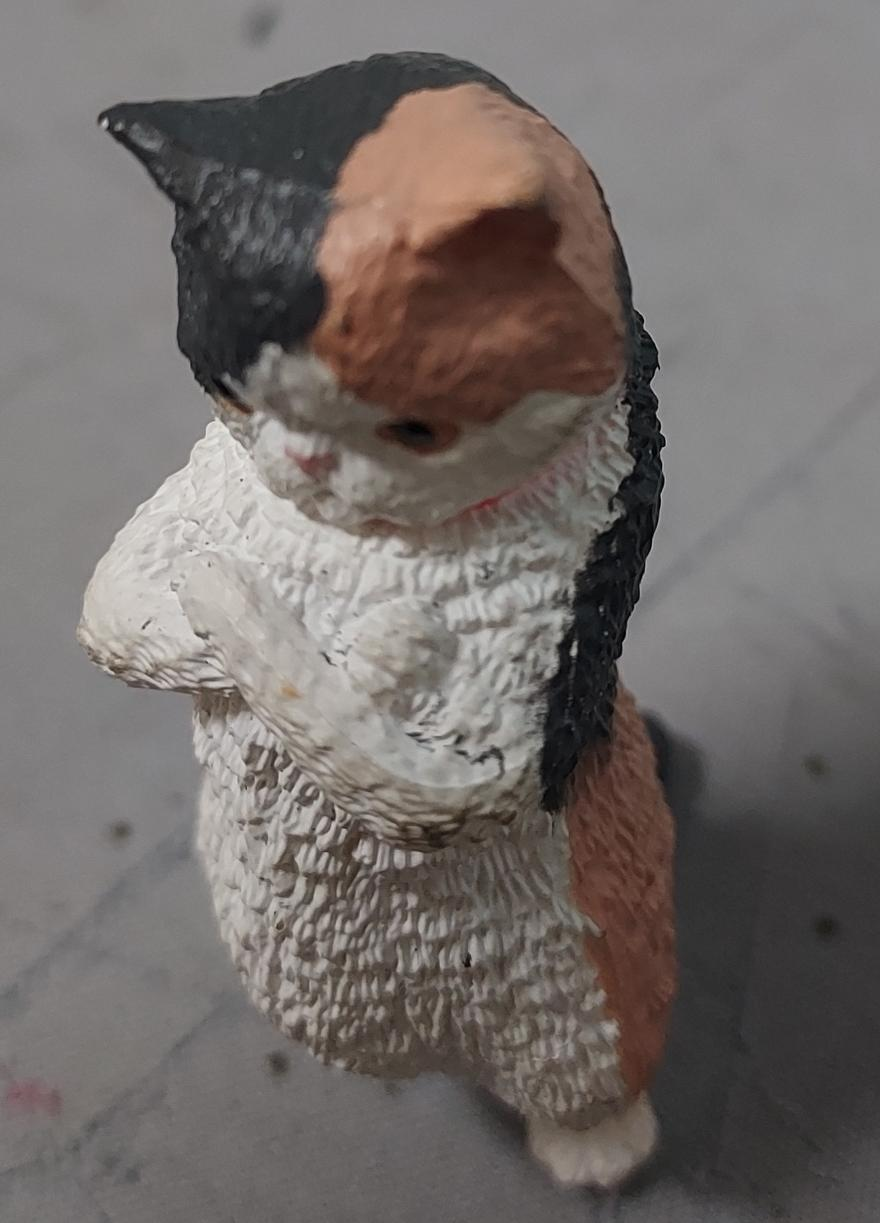cat: (0, 1, 880, 1223)
